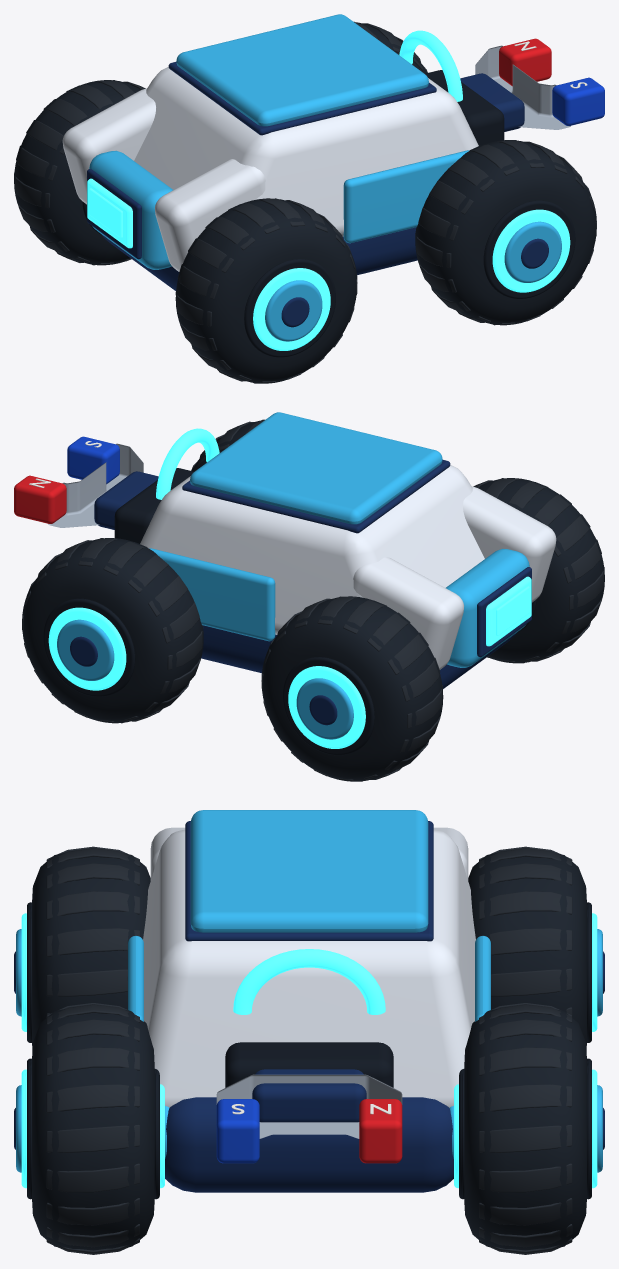
File: rover.glb
The picture shows the model from 3 angles, top to bottom: view 1: azimuth 30°, elevation 25°; view 2: azimuth 150°, elevation 25°; view 3: azimuth 270°, elevation 25°; orthographic projection. The views are drawn at different scales.
Parts seen in each view (by area): view 1: ROVER_GEOMETRY; view 2: ROVER_GEOMETRY; view 3: ROVER_GEOMETRY.
Part boxes in pixels (box(x1,y1,x2,y2)): ROVER_GEOMETRY: box(14, 14, 604, 383); ROVER_GEOMETRY: box(14, 412, 604, 781); ROVER_GEOMETRY: box(14, 810, 604, 1254).
Bounding box in the file's own units: 3.34 × 1.54 × 2.73.
